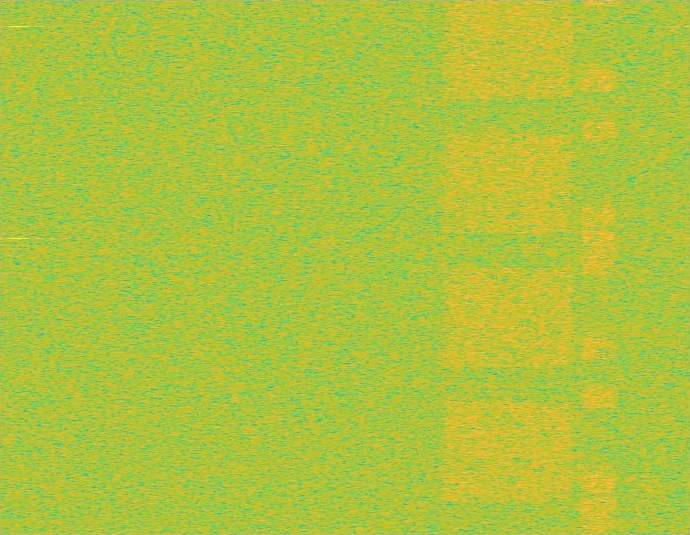5G: (439, 0, 577, 534)
LTE: (581, 0, 615, 534)
Radar: (12, 0, 26, 534)
